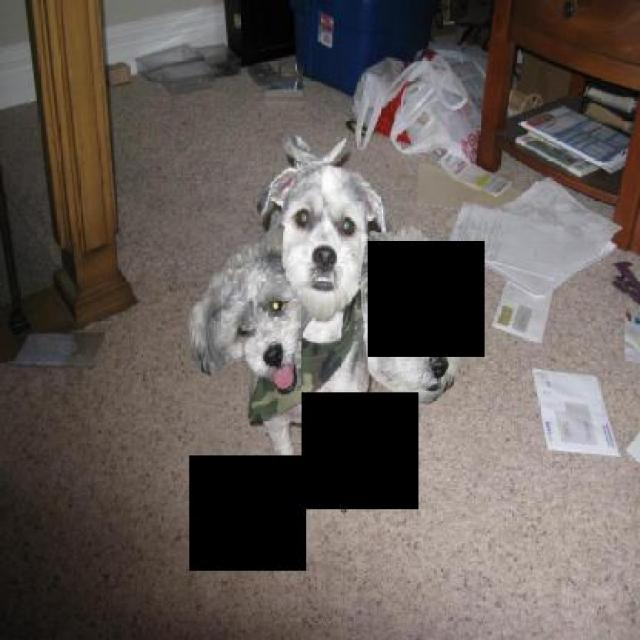plastic bag: (384, 76, 478, 156), (349, 57, 414, 152), (388, 51, 470, 109), (452, 46, 522, 108), (431, 36, 477, 70)
